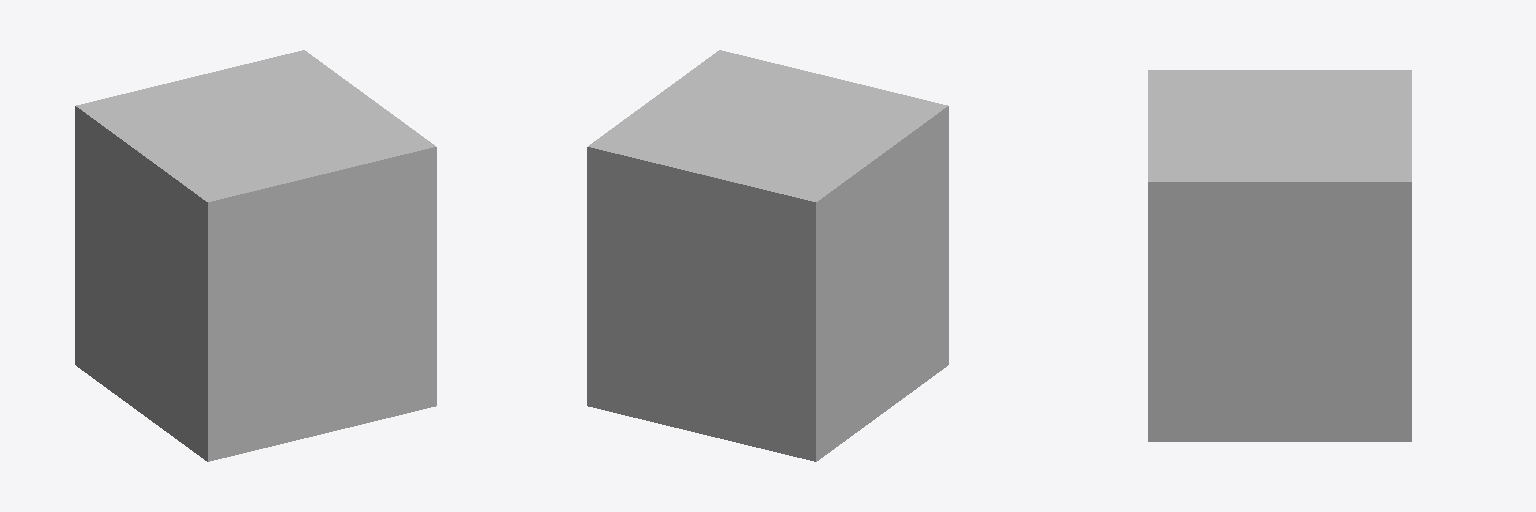
The model's file is road1.obj.
3 renders of one model, left to right at view 1: azimuth 30°, elevation 25°; view 2: azimuth 150°, elevation 25°; view 3: azimuth 270°, elevation 25°, orthographic.
Size of the model in its own units: 24 by 26 by 24.